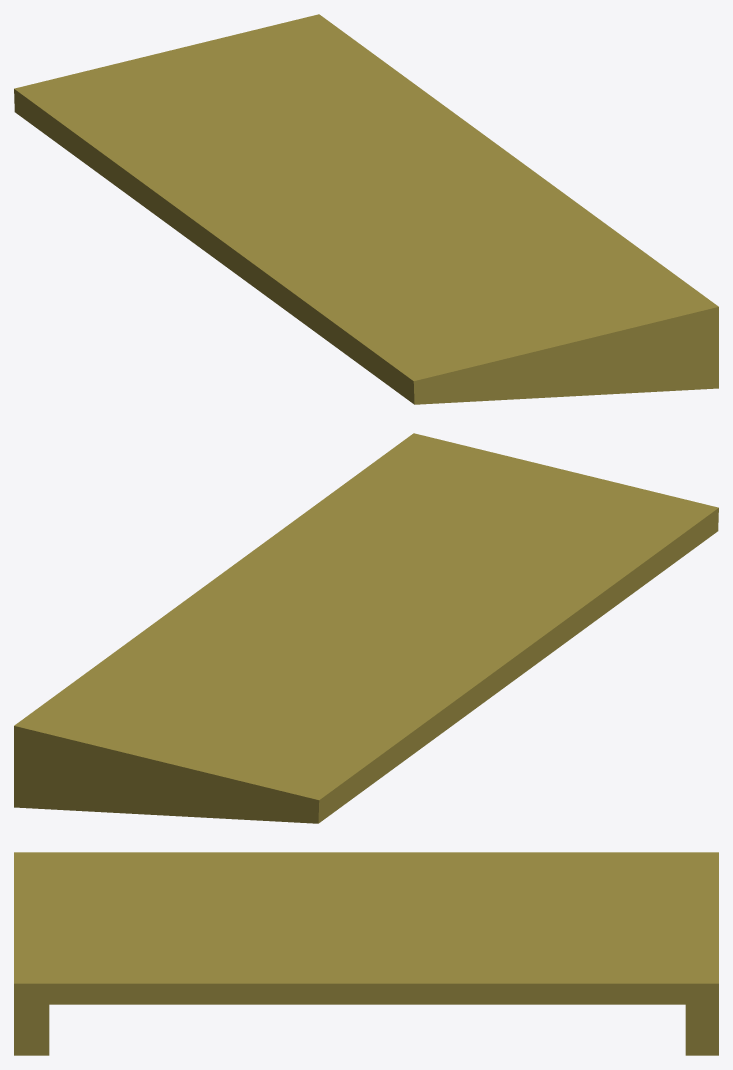
File: Shelf.fbx
3 views of the same model, one above another, from view 1: azimuth 30°, elevation 25°; view 2: azimuth 150°, elevation 25°; view 3: azimuth 270°, elevation 25° (orthographic). The views are drawn at different scales.
Parts seen in each view (by area): view 1: Cube; view 2: Cube; view 3: Cube.
Part boxes in pixels (box(x1,y1,x2,y2)): Cube: box(14, 14, 718, 404); Cube: box(14, 433, 718, 823); Cube: box(14, 852, 718, 1055).
Size of the model in its own units: 200 by 22.55 by 88.17.
